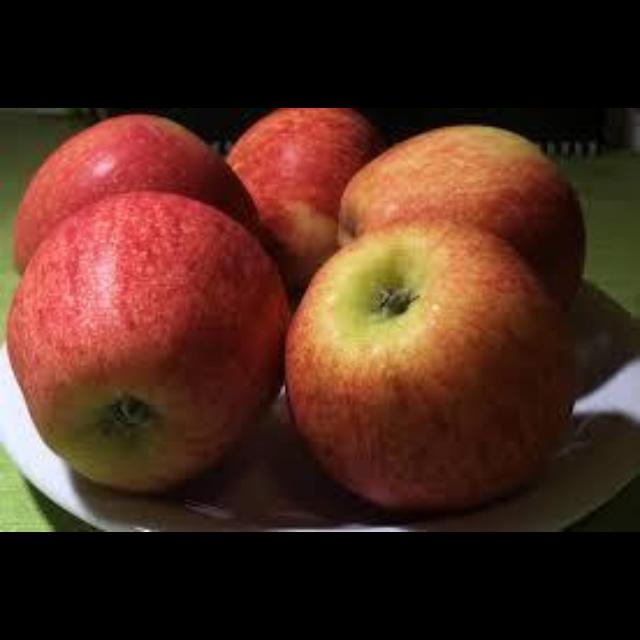apple: (7, 191, 288, 491), (285, 222, 575, 511), (341, 124, 584, 305), (14, 115, 255, 273), (227, 108, 383, 296)
